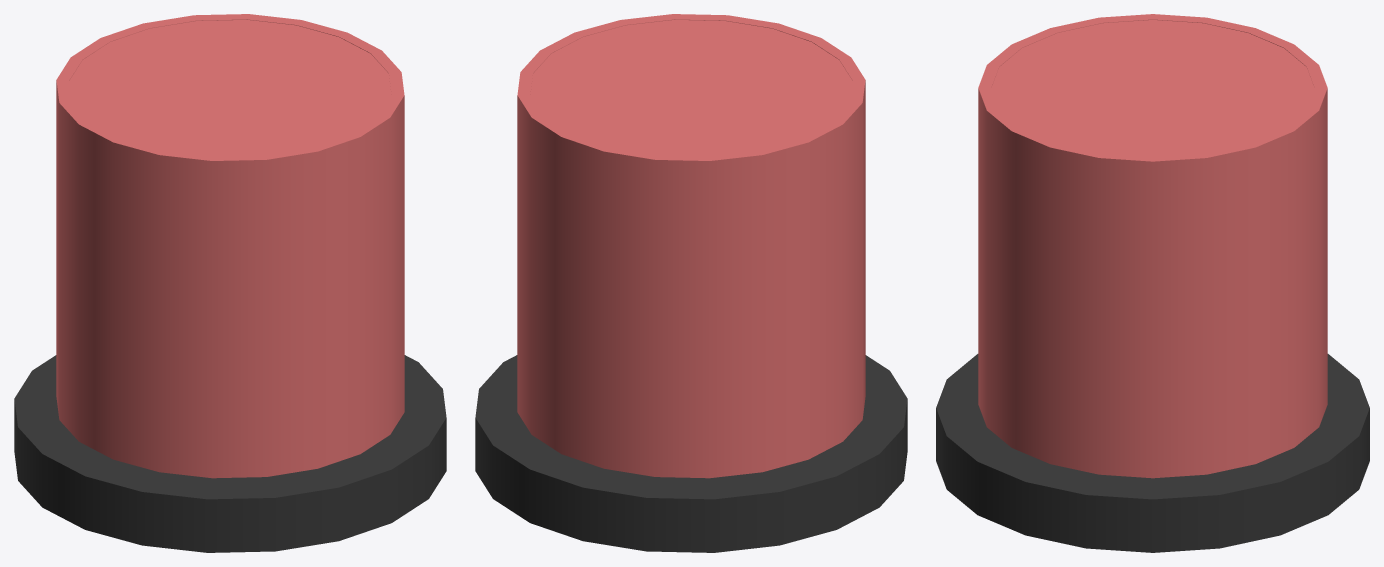
The model's file is Intruder Alarm.fbx.
3 views of the same model, side by side, from view 1: azimuth 30°, elevation 25°; view 2: azimuth 150°, elevation 25°; view 3: azimuth 270°, elevation 25° (orthographic).
Visible parts, largest first — view 1: pCylinder2, pCylinder1, pCylinder3; view 2: pCylinder2, pCylinder1, pCylinder3; view 3: pCylinder2, pCylinder1, pCylinder3.
Boxes of the visible parts, x1,y1,x2,y2 form: pCylinder2: (56, 14, 404, 478); pCylinder1: (14, 355, 446, 552); pCylinder3: (69, 20, 391, 155); pCylinder2: (517, 14, 865, 478); pCylinder1: (475, 355, 907, 552); pCylinder3: (530, 20, 852, 155); pCylinder2: (978, 14, 1327, 478); pCylinder1: (936, 354, 1369, 552); pCylinder3: (991, 20, 1314, 155).
Bounding box in the file's own units: 2.48 × 2.36 × 2.48.
